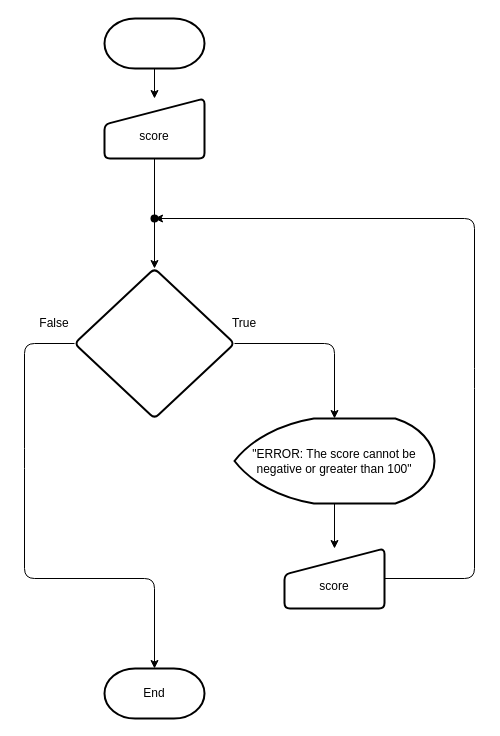
Image size: 500x736. Some labels were removed from this diagram. The centre of each missing label's shape, as x and y in pixels:
"score < 0 or score > 100" goes at (154,343).
"Start" goes at (154,43).
